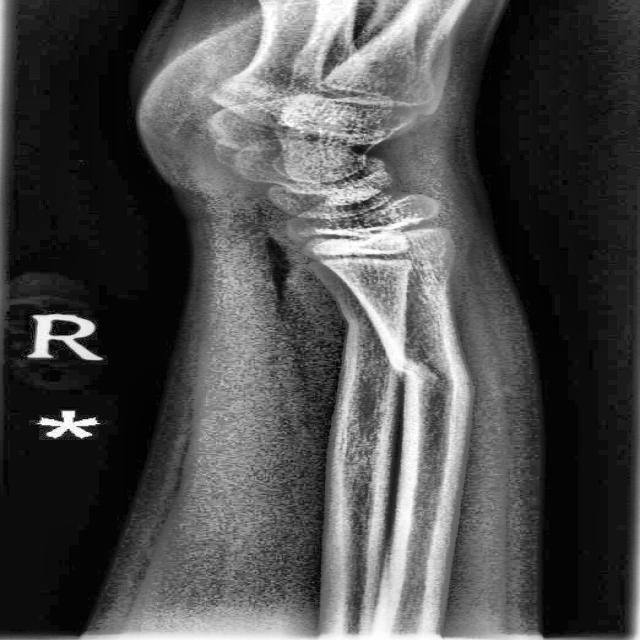angle: (389, 360, 473, 384)
